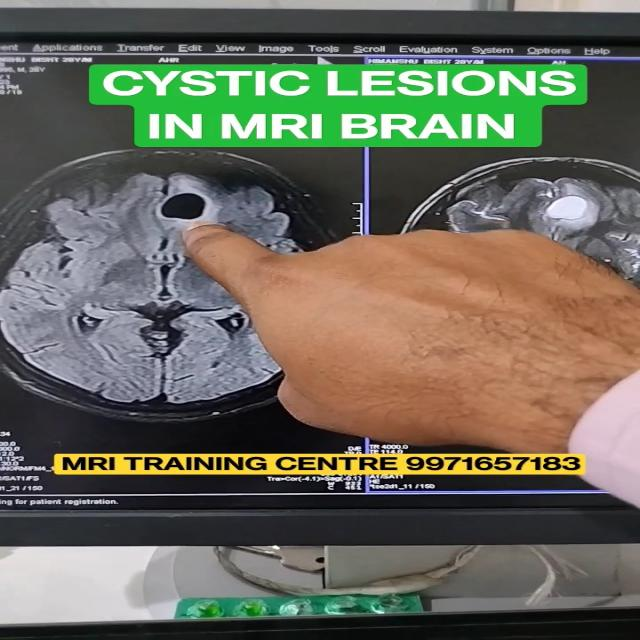tumor: (143, 176, 208, 233)
